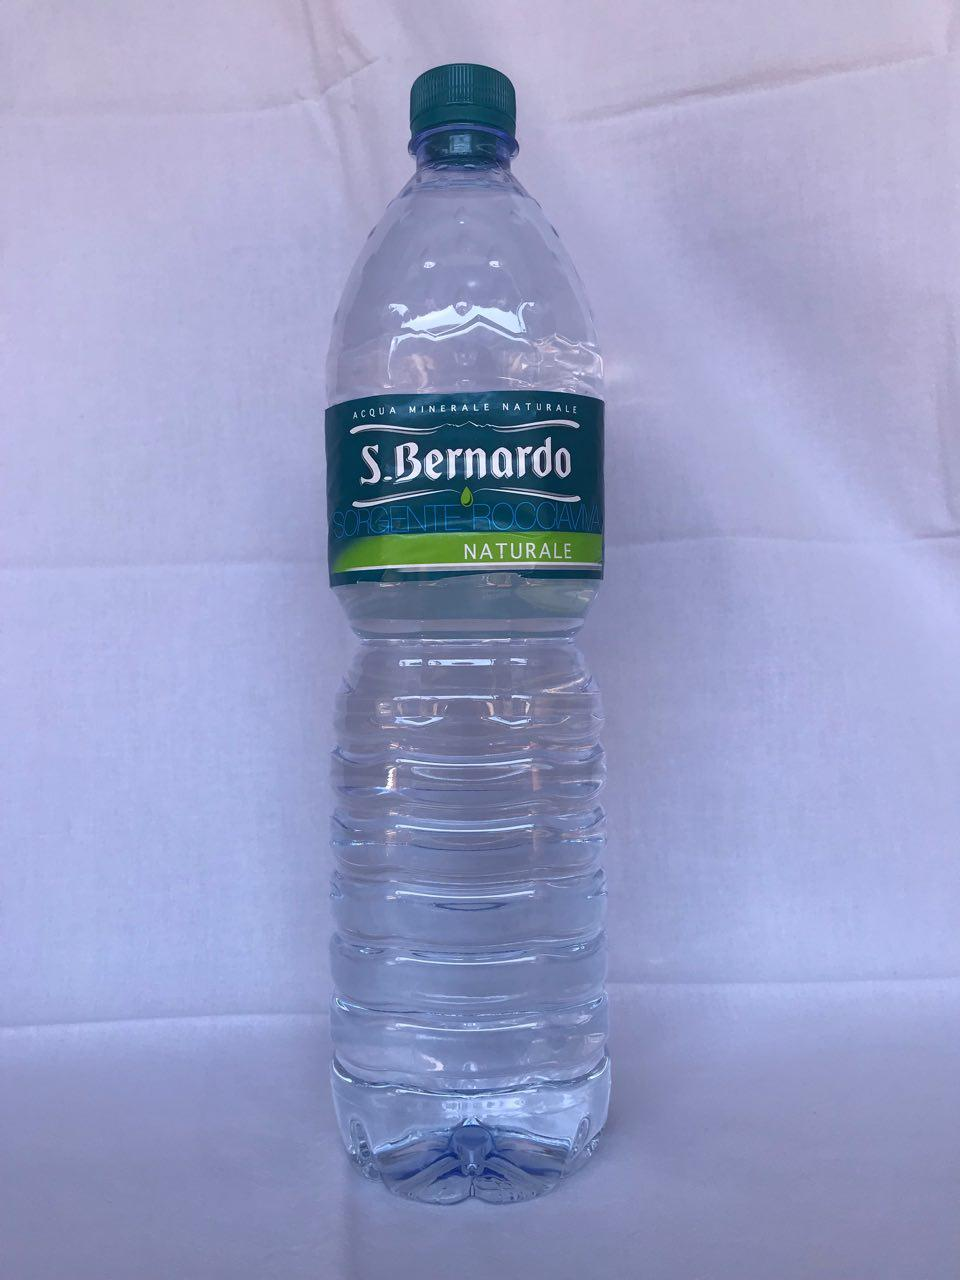san_bernardo: (319, 61, 614, 1207)
